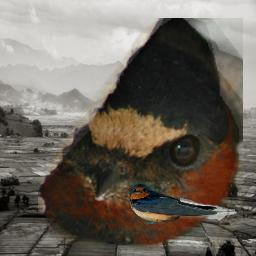Swallow: (38, 18, 243, 251), (127, 181, 235, 224)
